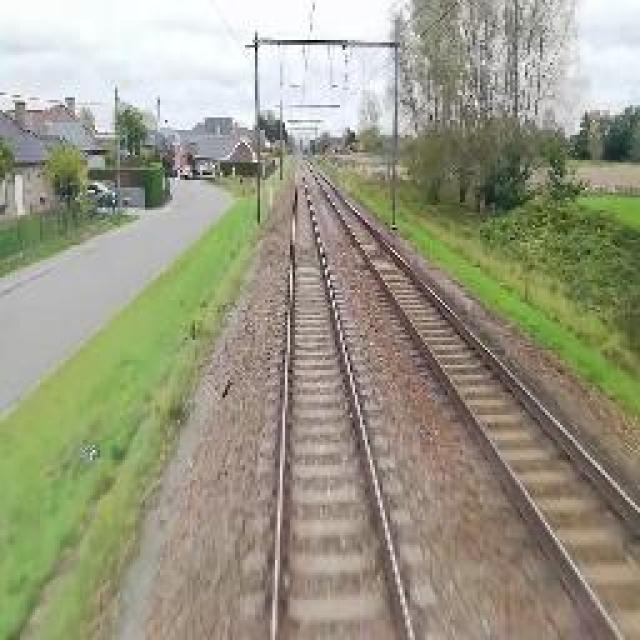rail: (242, 155, 449, 640)
